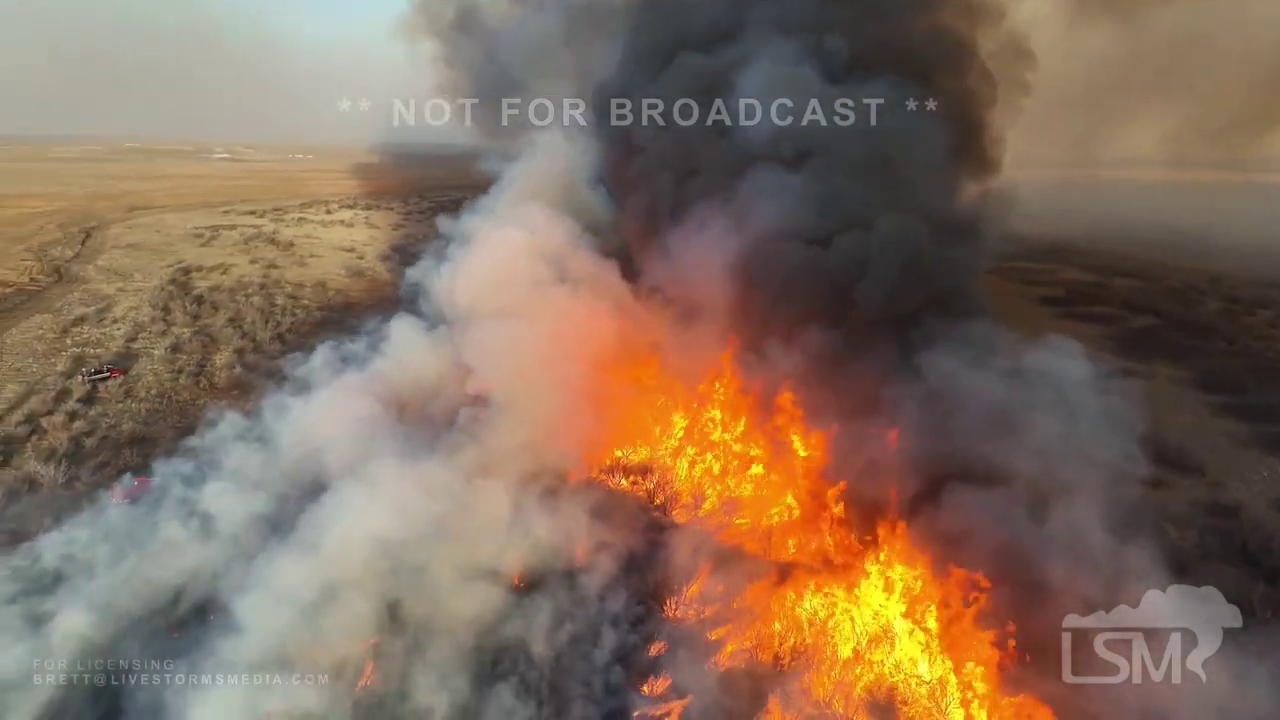forest_fire: (595, 352, 1055, 719), (635, 668, 695, 719), (648, 637, 674, 660)
